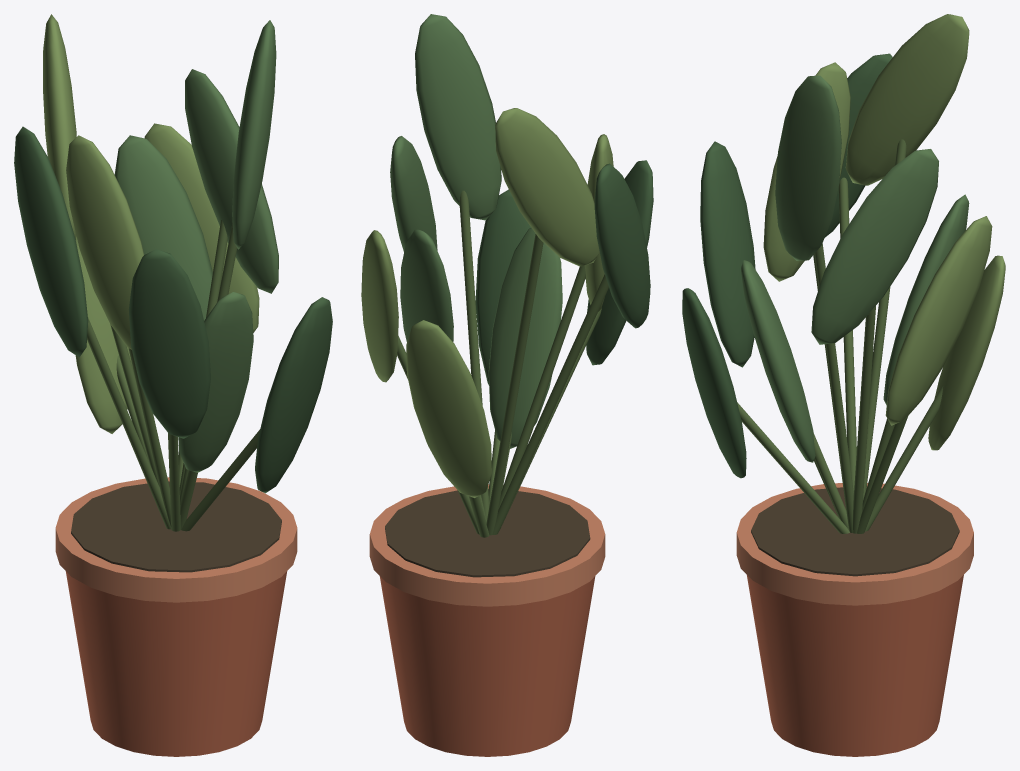
File: plant.glb
3 views of the same model, side by side, from view 1: azimuth 30°, elevation 25°; view 2: azimuth 150°, elevation 25°; view 3: azimuth 270°, elevation 25° (orthographic). The views are drawn at different scales.
Bounding box in the file's own units: 0.7757 × 2.06 × 0.8838.
